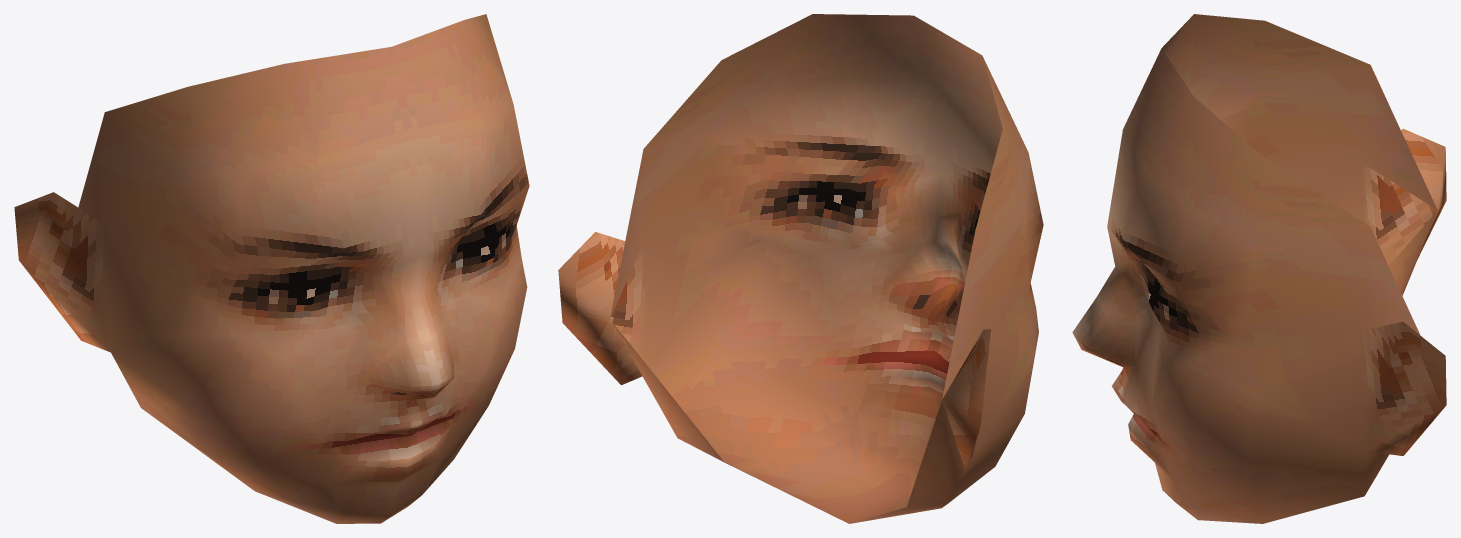
Rendered from f_hair015.glb.
3 renders of one model, left to right at view 1: azimuth 30°, elevation 25°; view 2: azimuth 150°, elevation 25°; view 3: azimuth 270°, elevation 25°, orthographic. The views are drawn at different scales.
Bounding box in the file's own units: 19.4 × 20.15 × 14.69.
1 material, 1 textured.
